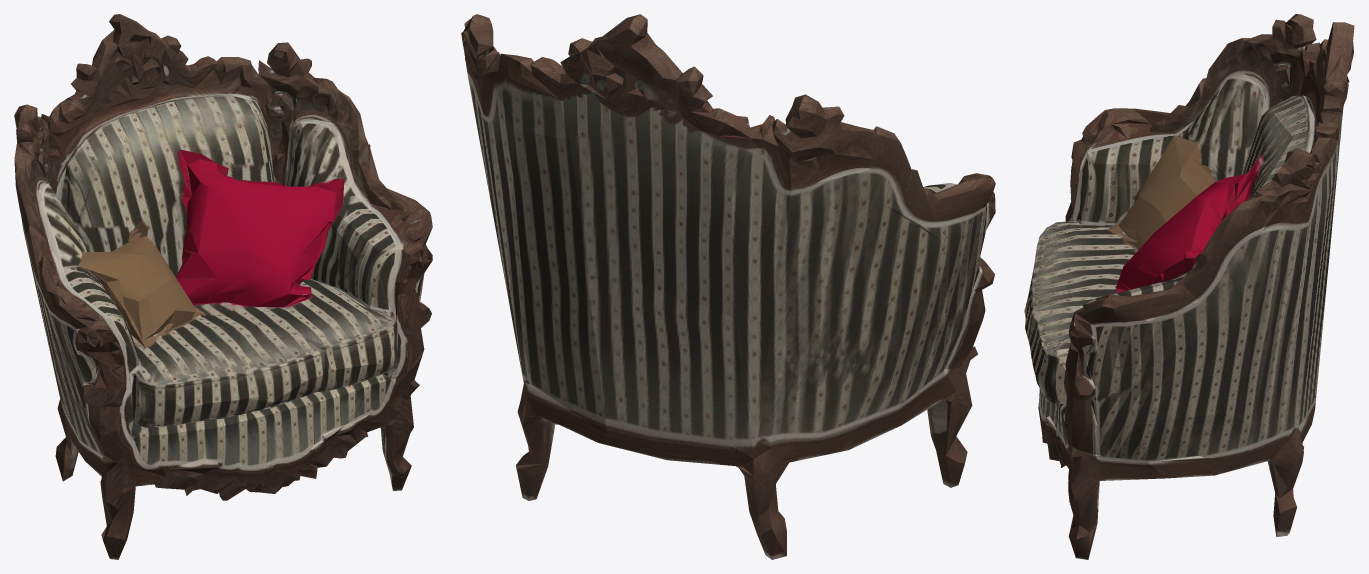
Rendered from armchair.glb.
3 renders of one model, left to right at view 1: azimuth 30°, elevation 25°; view 2: azimuth 150°, elevation 25°; view 3: azimuth 270°, elevation 25°, orthographic. The views are drawn at different scales.
Parts seen in each view (by area): view 1: output_unwrapped; view 2: output_unwrapped; view 3: output_unwrapped.
Part boxes in pixels (x1,y1,x2,y2): output_unwrapped: (14,14,432,559); output_unwrapped: (461,14,995,559); output_unwrapped: (1024,14,1354,559).
Size of the model in its own units: 1.76 by 1.9 by 1.25.
1 material, 1 textured.
